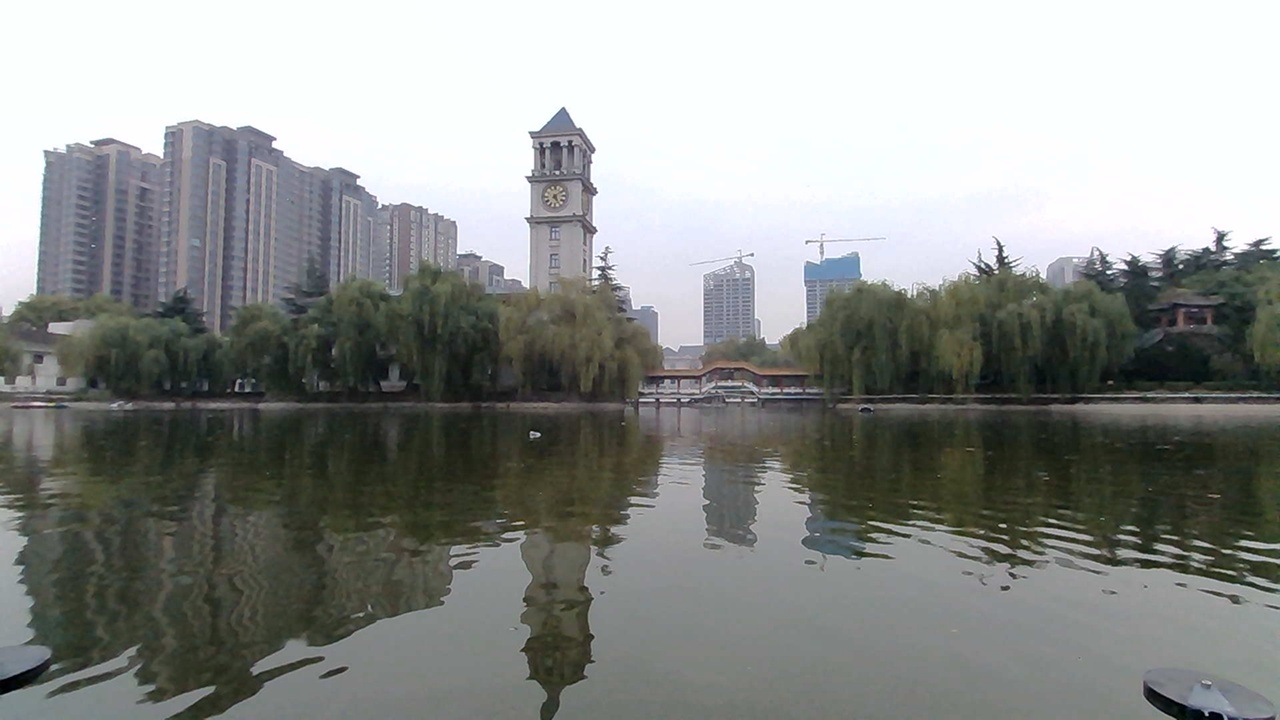bottle: (523, 423, 551, 445)
